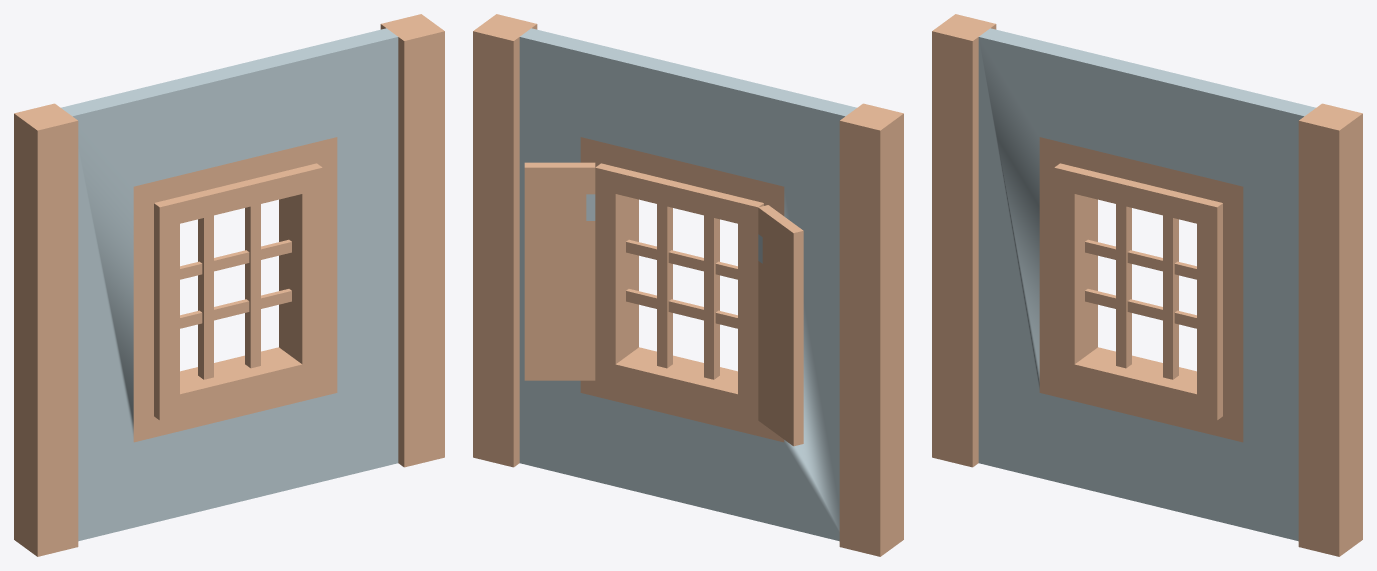
The model's file is Wall_Window_Shutters.fbx.
3 renders of one model, left to right at view 1: azimuth 30°, elevation 25°; view 2: azimuth 150°, elevation 25°; view 3: azimuth 330°, elevation 25°, orthographic.
Parts seen in each view (by area): view 1: wallWindowShutters.001; view 2: wallWindowShutters.001; view 3: wallWindowShutters.001.
Boxes of the visible parts, x1,y1,x2,y2 form: wallWindowShutters.001: [14, 14, 444, 556]; wallWindowShutters.001: [473, 14, 903, 556]; wallWindowShutters.001: [932, 14, 1362, 556].
Size of the model in its own units: 100 by 100 by 17.5.
